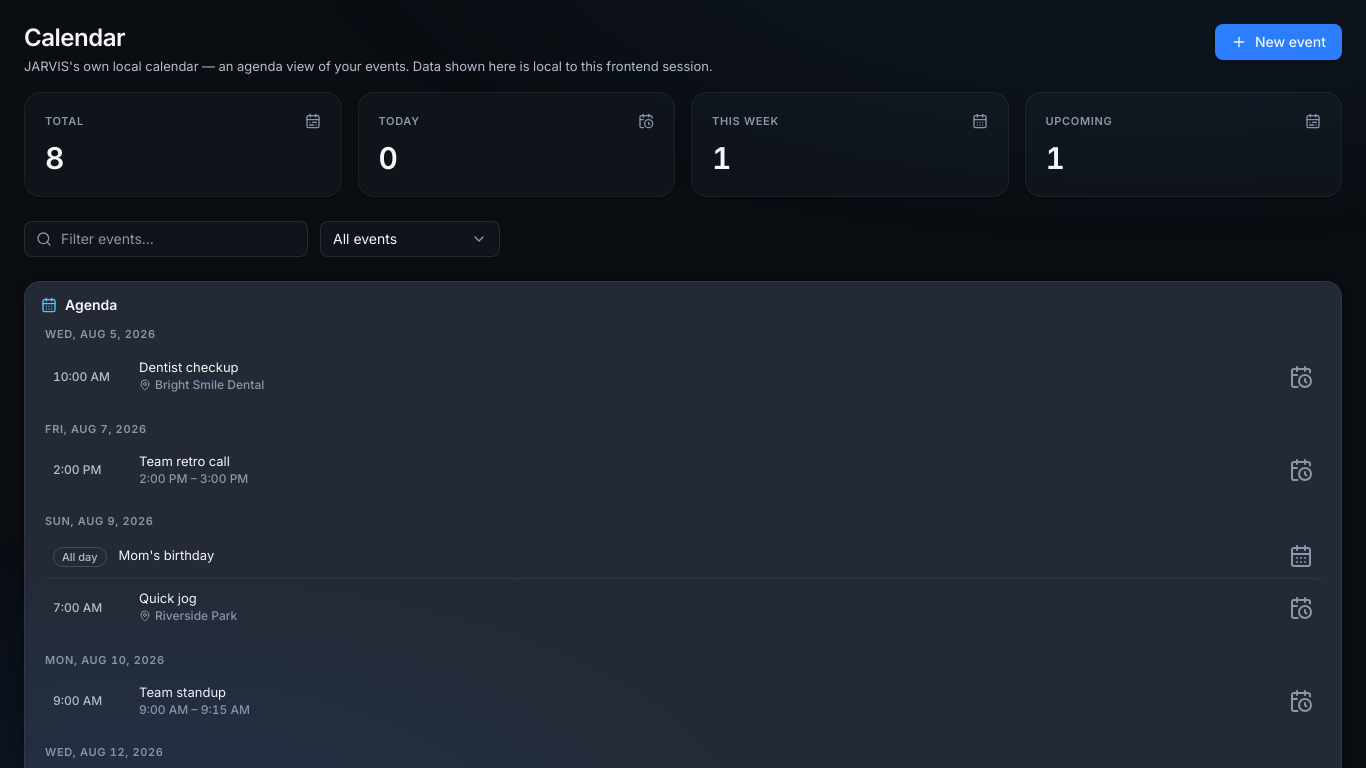
Test case: CalendarPage › filters events by search text
Expected: the button with test id "calendar-event-row-cal-1" is shown, top-left (53, 359), bottom-right (1313, 392)
Type "dentist" into the search field with test id "calendar-filter-input" at (166, 239), box top-left (24, 221), bottom-right (308, 257)
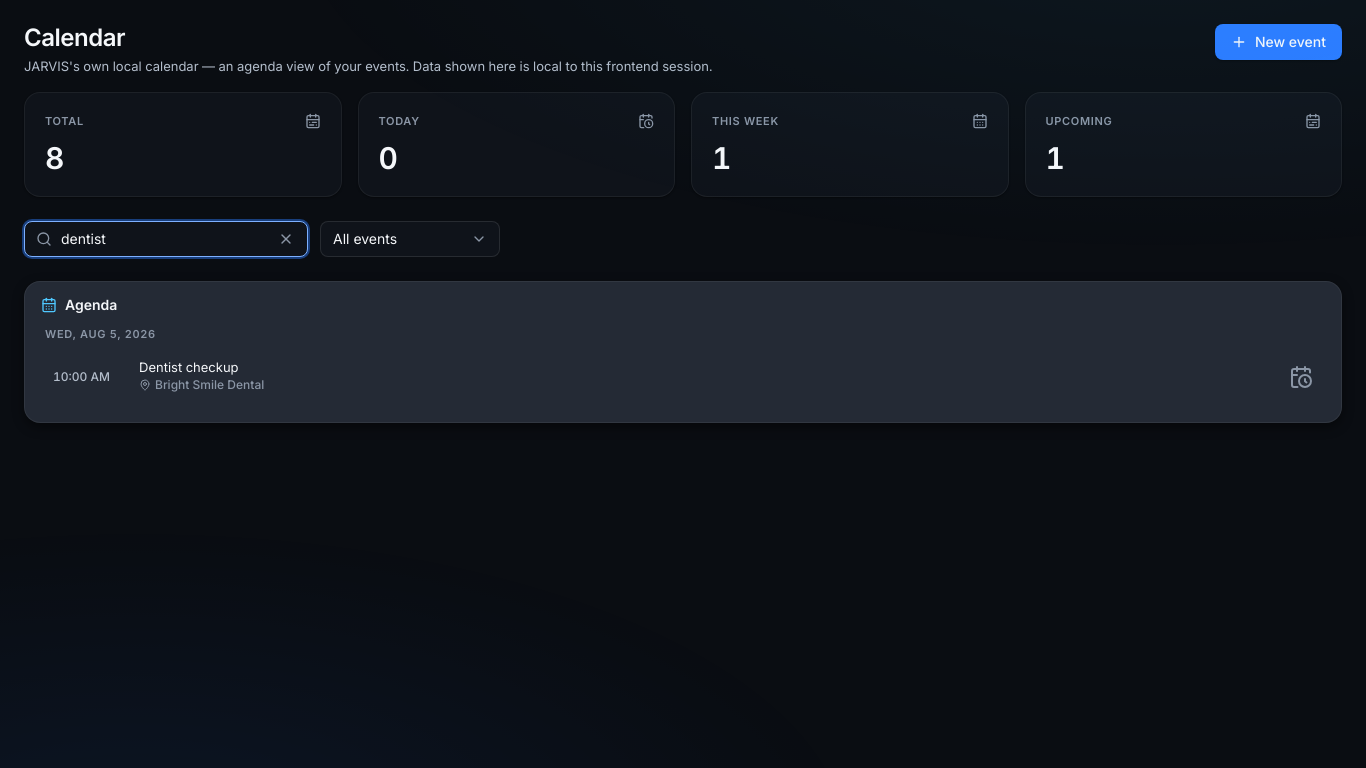
Expected: the button with test id "calendar-event-row-cal-1" is shown, top-left (53, 359), bottom-right (1313, 392)
Now the button with test id "calendar-event-row-cal-5" is gone
